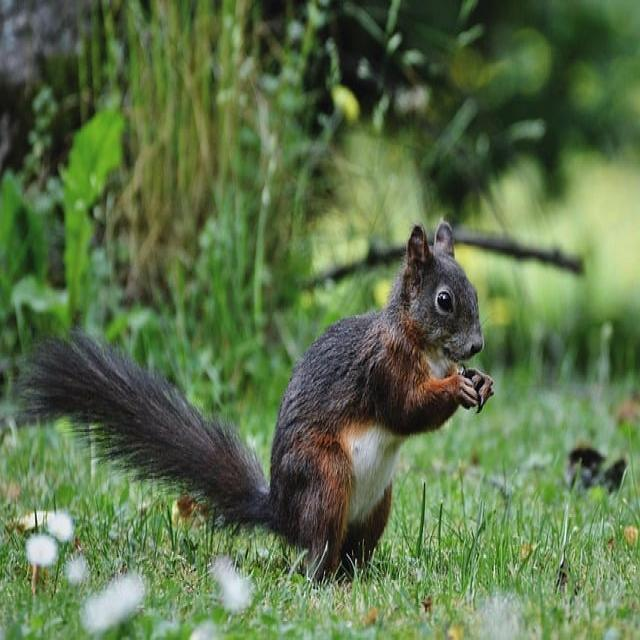Herbivorous: (265, 221, 494, 584)
